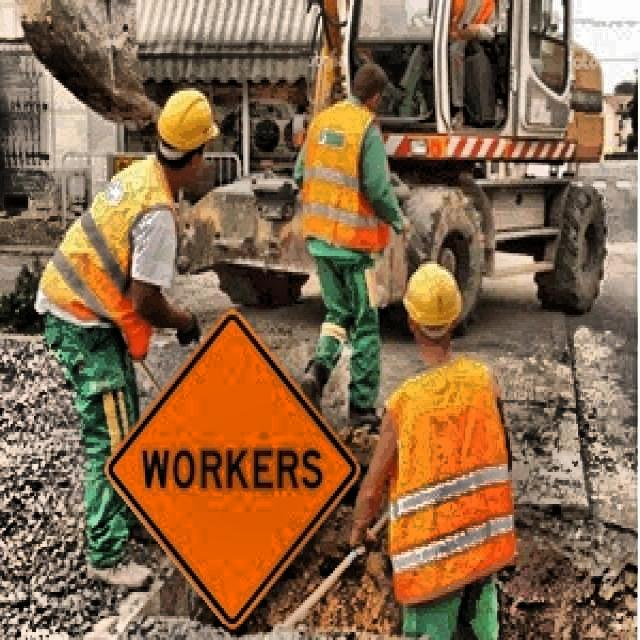person: (379, 262, 532, 638), (294, 61, 390, 419)
